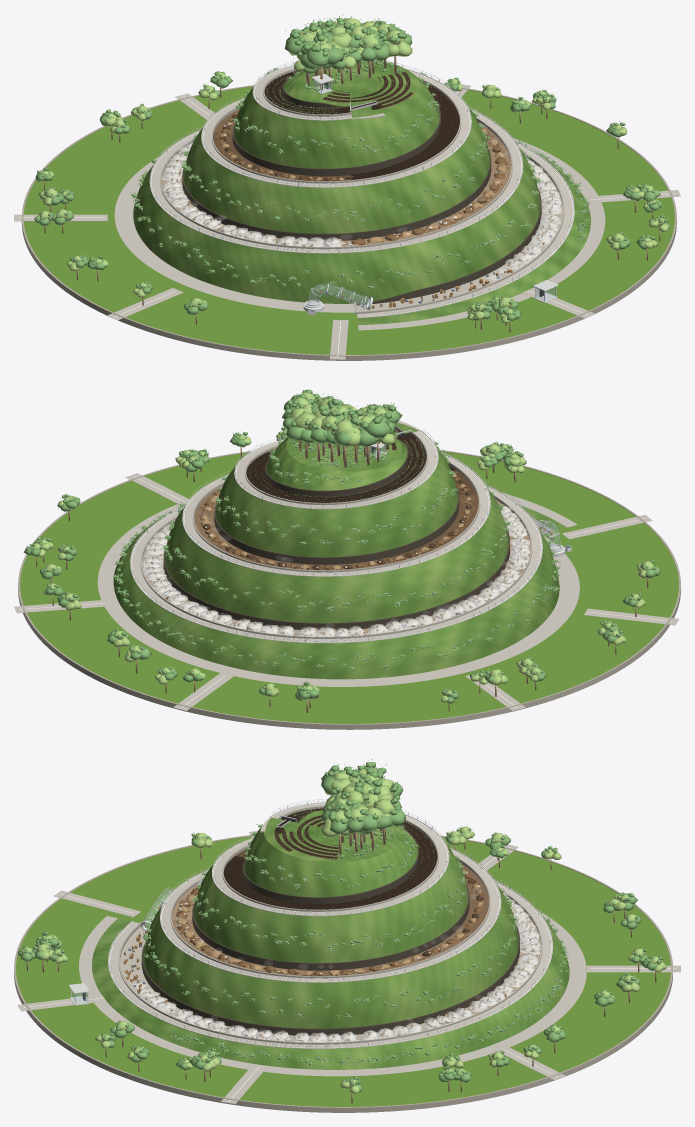
Rendered from q10c-spiral-soil-hill.glb.
3 renders of one model, top to bottom at view 1: azimuth 30°, elevation 25°; view 2: azimuth 150°, elevation 25°; view 3: azimuth 270°, elevation 25°, orthographic.
Parts seen in each view (by area): view 1: HILL_PLAZA, HILL_BANKS, CHANNEL_STRUCTURE, WALK_PATH, HILL, SUMMIT, CHANNEL_S2_COCOONS, HILL_BANK_PLANTS, HILL_PLATEAU, CHANNEL_S4_SOIL, CHANNEL_S3_CRUMBLE, WALK_RAIL (+6 smaller); view 2: HILL_PLAZA, HILL_BANKS, CHANNEL_STRUCTURE, WALK_PATH, HILL, CHANNEL_S2_COCOONS, SUMMIT, HILL_BANK_PLANTS, CHANNEL_S4_SOIL, WALK_RAIL, CHANNEL_S3_CRUMBLE, HILL_PLATEAU (+1 smaller); view 3: HILL_PLAZA, HILL_BANKS, CHANNEL_STRUCTURE, WALK_PATH, HILL, CHANNEL_S2_COCOONS, HILL_BANK_PLANTS, SUMMIT, CHANNEL_S4_SOIL, CHANNEL_S3_CRUMBLE, HILL_PLATEAU, WALK_RAIL (+1 smaller).
Boxes of the visible parts, x1,y1,x2,y2 form: HILL_PLAZA: (14, 84, 680, 360); HILL_BANKS: (133, 71, 590, 324); CHANNEL_STRUCTURE: (160, 69, 564, 313); WALK_PATH: (149, 65, 574, 318); HILL: (34, 68, 670, 332); SUMMIT: (284, 14, 412, 89); CHANNEL_S2_COCOONS: (161, 141, 562, 269); HILL_BANK_PLANTS: (130, 61, 592, 292); HILL_PLATEAU: (297, 60, 420, 117); CHANNEL_S4_SOIL: (264, 71, 459, 179); CHANNEL_S3_CRUMBLE: (216, 112, 508, 245); WALK_RAIL: (150, 61, 574, 313); HILL_PLAZA: (14, 446, 680, 729); HILL_BANKS: (113, 437, 566, 679); CHANNEL_STRUCTURE: (140, 431, 543, 638); WALK_PATH: (130, 430, 551, 643); HILL: (24, 427, 660, 712); CHANNEL_S2_COCOONS: (142, 505, 530, 636); SUMMIT: (282, 389, 402, 467); HILL_BANK_PLANTS: (113, 436, 560, 672); CHANNEL_S4_SOIL: (246, 434, 455, 502); WALK_RAIL: (130, 429, 542, 642); CHANNEL_S3_CRUMBLE: (198, 472, 475, 570); HILL_PLATEAU: (286, 422, 418, 471); HILL_PLAZA: (14, 831, 680, 1112); HILL_BANKS: (92, 810, 569, 1069); CHANNEL_STRUCTURE: (118, 805, 542, 1044); WALK_PATH: (108, 802, 552, 1048); HILL: (17, 825, 666, 1103); CHANNEL_S2_COCOONS: (140, 879, 540, 1042); HILL_BANK_PLANTS: (141, 824, 569, 1066); SUMMIT: (321, 758, 405, 855); CHANNEL_S4_SOIL: (223, 808, 437, 909); CHANNEL_S3_CRUMBLE: (175, 852, 485, 976); HILL_PLATEAU: (263, 813, 397, 862); WALK_RAIL: (108, 799, 552, 1047).
Bounding box in the file's own units: 168 × 54.61 × 170.
